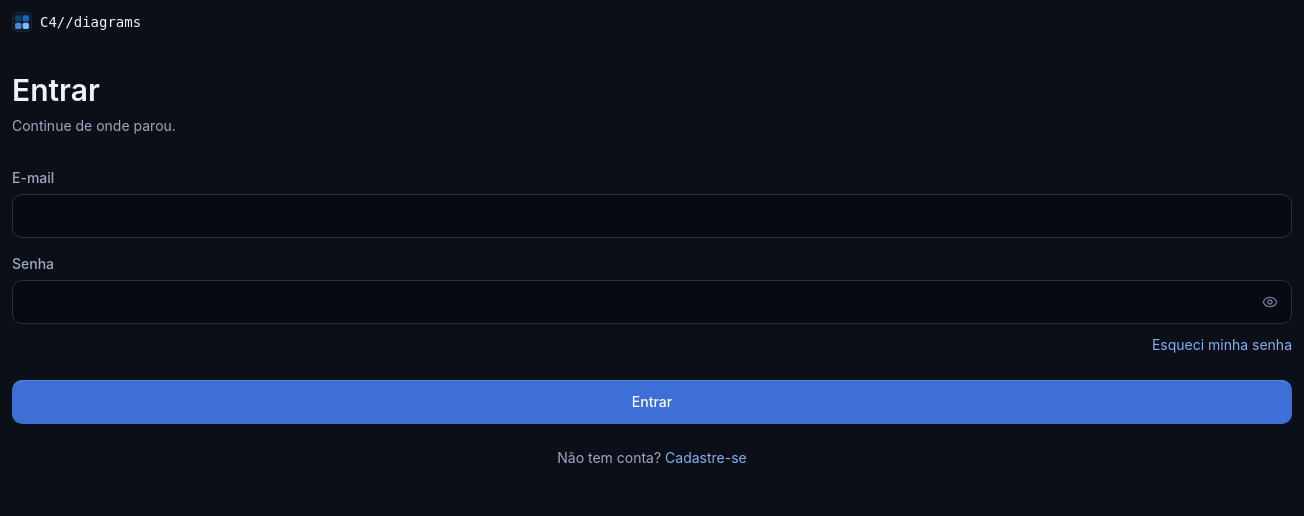
Test: Login › deve exibir mensagem de erro para credenciais inválidas (401)
The width and height of the screenshot is (1304, 516).
Type "joao@example.com" into the field labelled "E-mail".
click(652, 216); type("joao@example.com")  # box [12,194,1292,238]
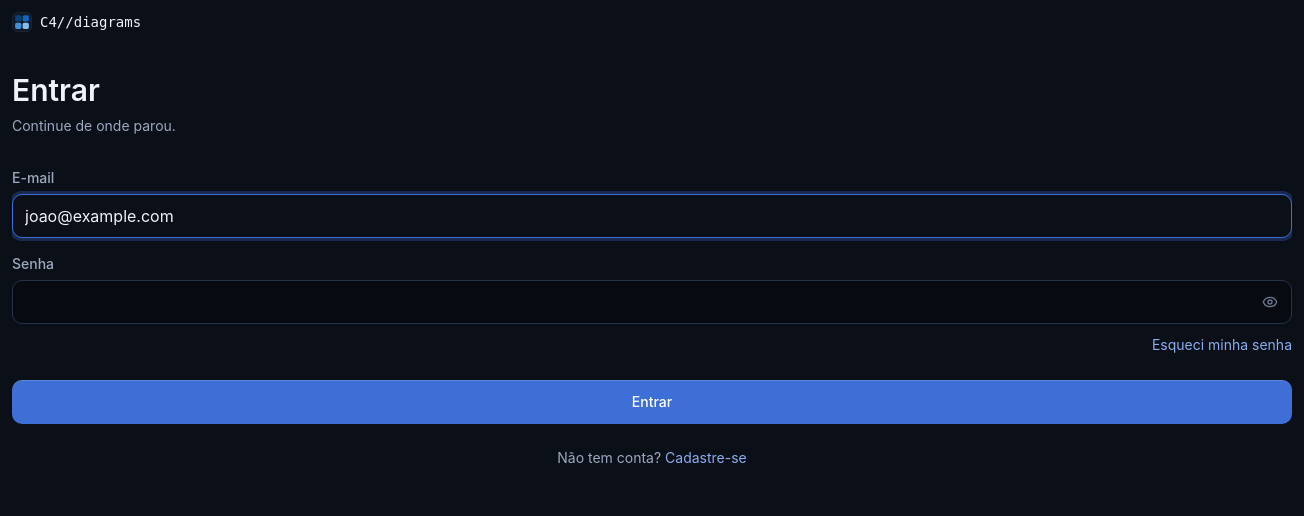
Type "SenhaErrada@123" into the password field labelled "Senha".
click(652, 302); type("SenhaErrada@123")  # box [12,280,1292,324]
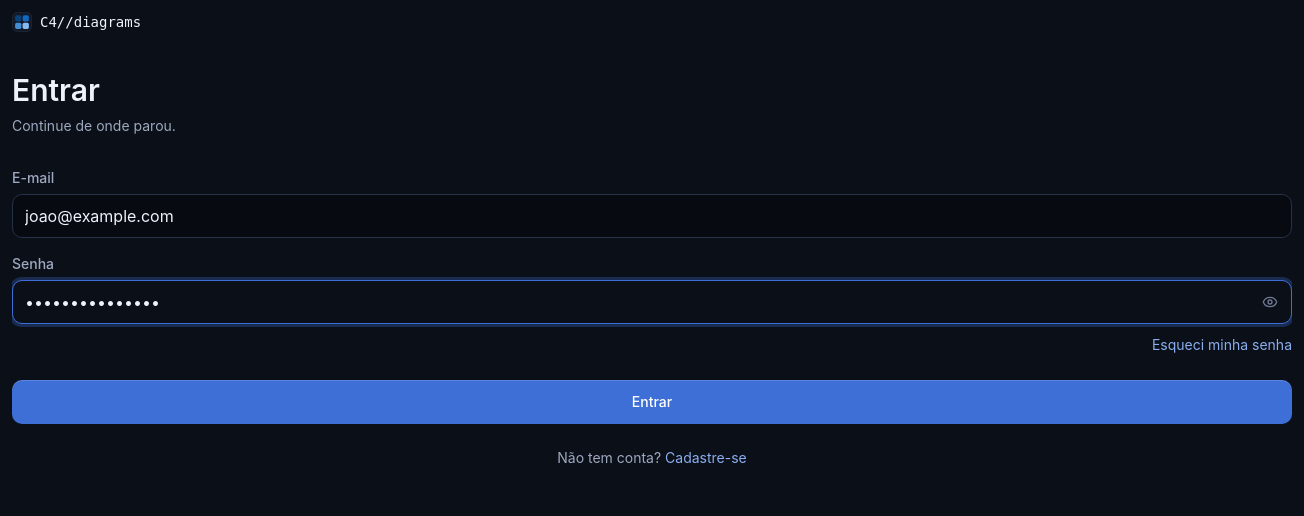
Click the button "Entrar".
click(652, 402)  # box [12,380,1292,424]
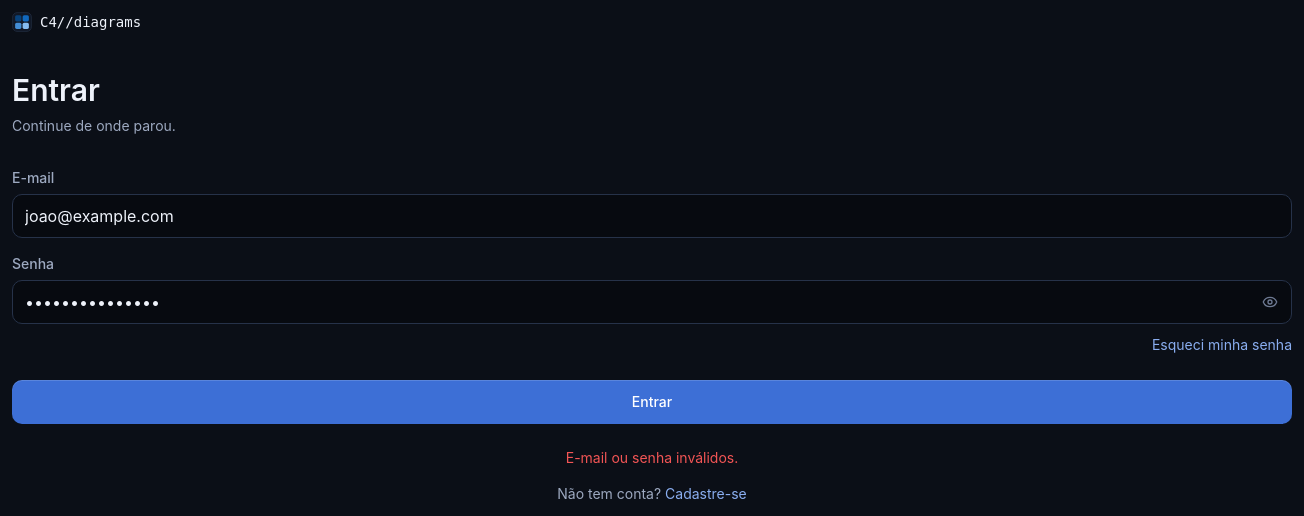
expect the text "E-mail ou senha inválidos." is shown: met, box [566,449,738,466]
